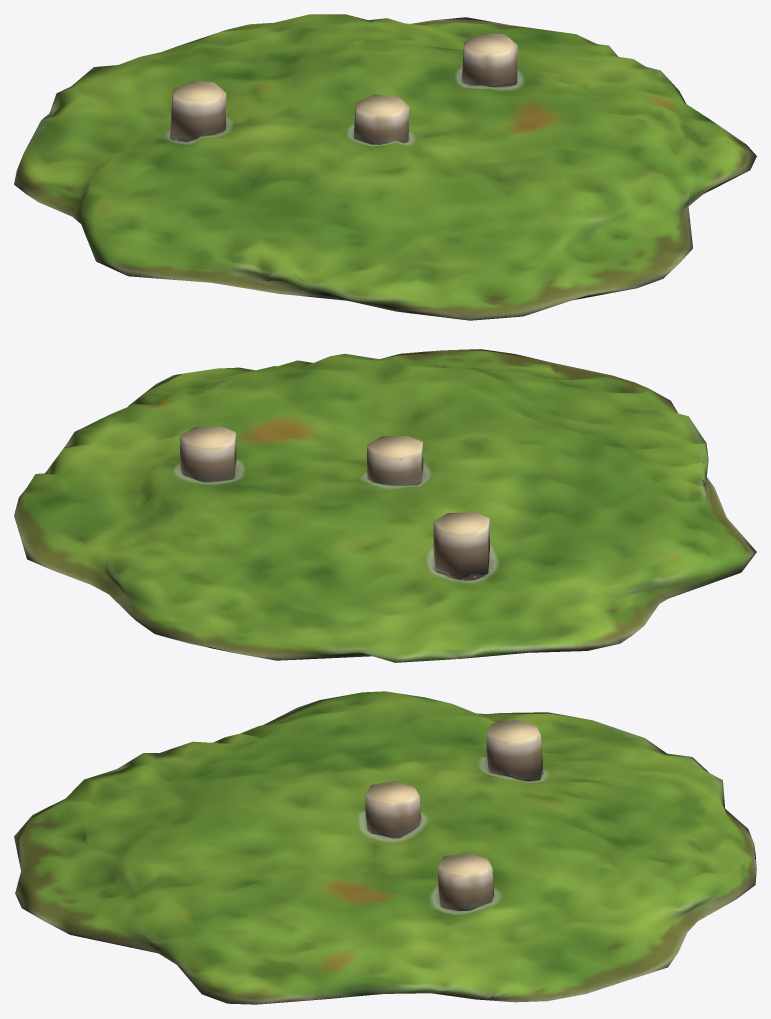
File: mushrooms_picked.glb
The picture shows the model from 3 angles, top to bottom: view 1: azimuth 30°, elevation 25°; view 2: azimuth 150°, elevation 25°; view 3: azimuth 270°, elevation 25°; orthographic projection. The views are drawn at different scales.
Parts seen in each view (by area): view 1: mushrooms_picked; view 2: mushrooms_picked; view 3: mushrooms_picked.
Part boxes in pixels (left/top/right/bottom): mushrooms_picked: left=14, top=14, right=756, bottom=320; mushrooms_picked: left=14, top=349, right=756, bottom=662; mushrooms_picked: left=14, top=691, right=756, bottom=1004.
Bounding box in the file's own units: 1.18 × 0.1211 × 1.23.
Materials: 1 (1 with a texture image).
